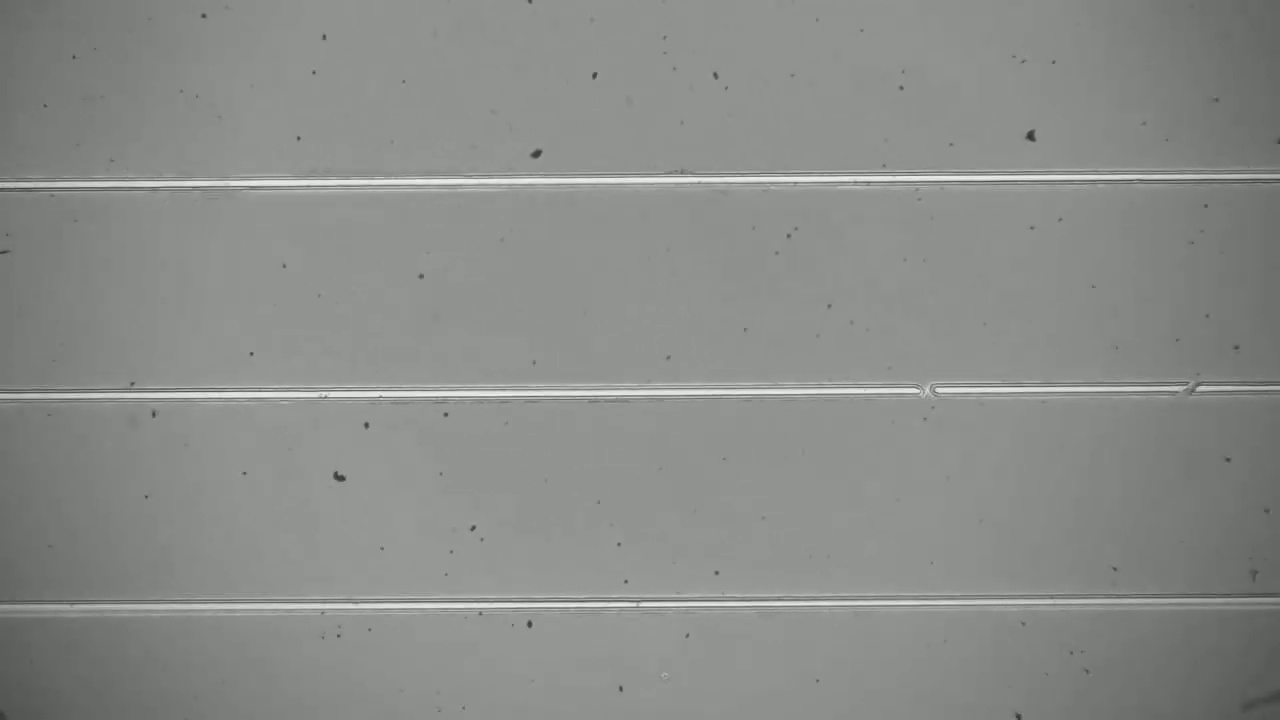open: (904, 370, 951, 410), (1164, 372, 1210, 407)
